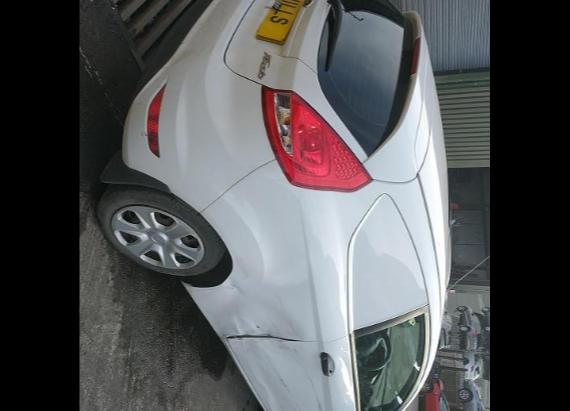Broken part: (224, 332, 308, 342)
Dent: (198, 255, 302, 336), (228, 340, 312, 411)
Scratch: (310, 378, 322, 411), (278, 338, 298, 354), (280, 378, 286, 388)
